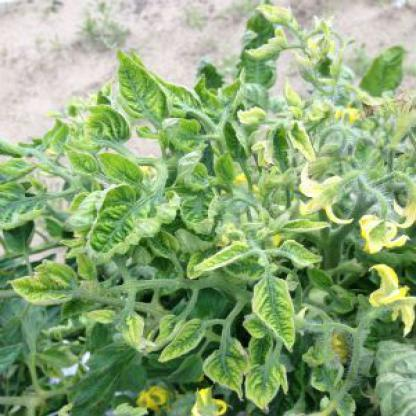tomato leaf mosaic virus: (111, 49, 171, 127), (250, 273, 298, 351), (89, 202, 141, 253), (86, 105, 129, 146), (97, 154, 148, 185)
